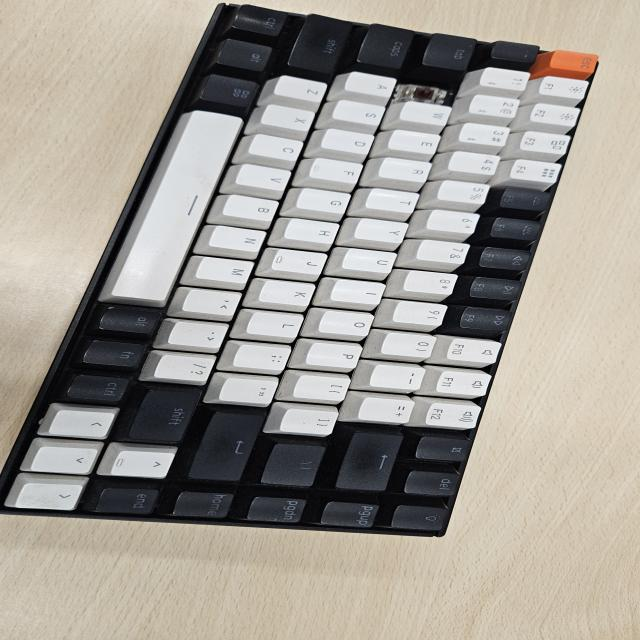C: (404, 78, 448, 103), (409, 81, 446, 102)
